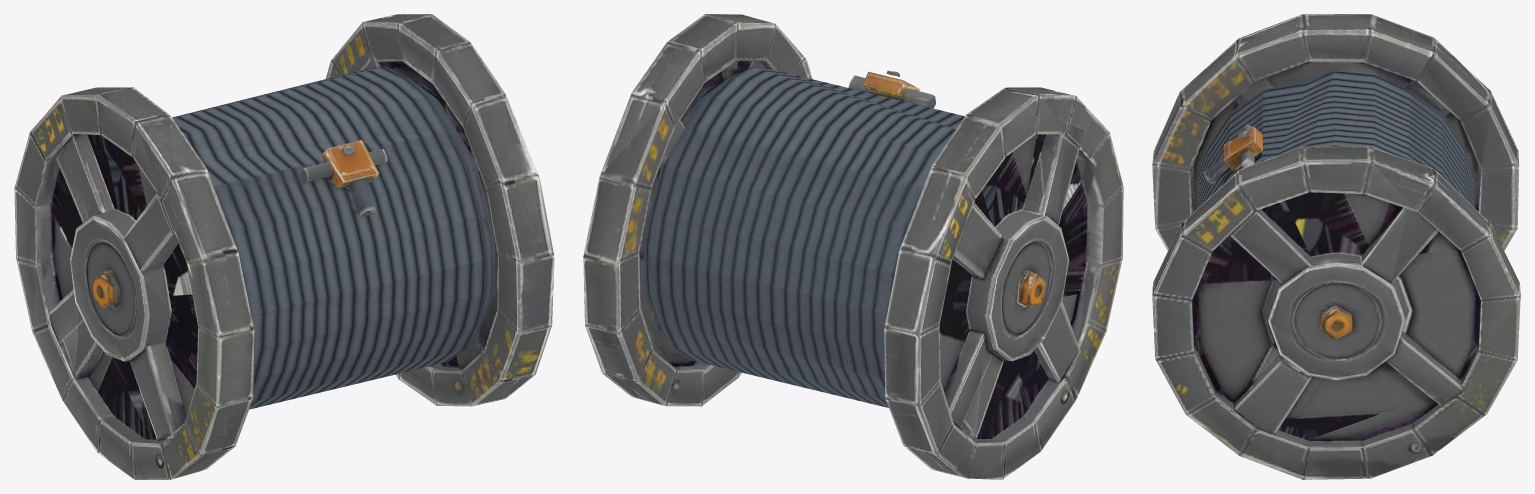
The model's file is coil.glb.
3 views of the same model, side by side, from view 1: azimuth 30°, elevation 25°; view 2: azimuth 150°, elevation 25°; view 3: azimuth 270°, elevation 25° (orthographic). The views are drawn at different scales.
Parts seen in each view (by area): view 1: mesh_node; view 2: mesh_node; view 3: mesh_node.
Part boxes in pixels (x1,y1,x2,y2): mesh_node: (14, 14, 554, 479); mesh_node: (583, 14, 1123, 479); mesh_node: (1152, 14, 1520, 479).
Size of the model in its own units: 0.9902 by 0.9239 by 0.9648.
1 material, 1 textured.
